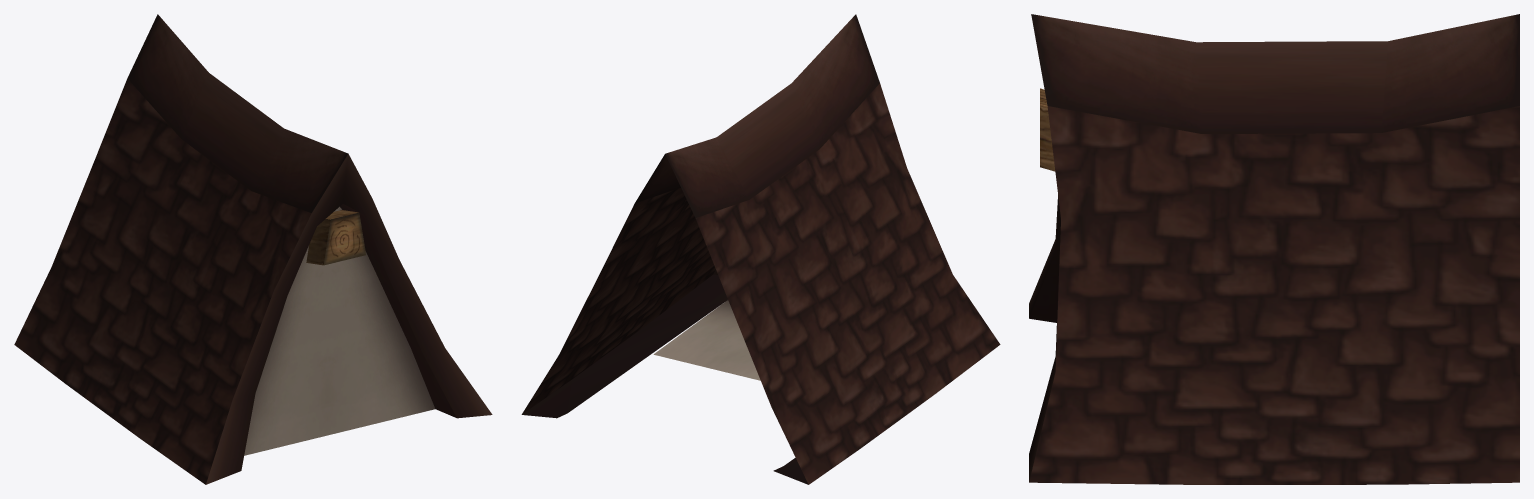
The model's file is fanasty_mod_roof_extension01.fbx.
3 renders of one model, left to right at view 1: azimuth 30°, elevation 25°; view 2: azimuth 150°, elevation 25°; view 3: azimuth 270°, elevation 25°, orthographic. The views are drawn at different scales.
Parts seen in each view (by area): view 1: roof_extension_01; view 2: roof_extension_01; view 3: roof_extension_01.
Boxes of the visible parts, box(x1,y1,x2,y2) form: roof_extension_01: box(14, 14, 492, 484); roof_extension_01: box(521, 14, 1000, 484); roof_extension_01: box(1029, 14, 1519, 484).
Size of the model in its own units: 3.85 by 3.81 by 4.45.
